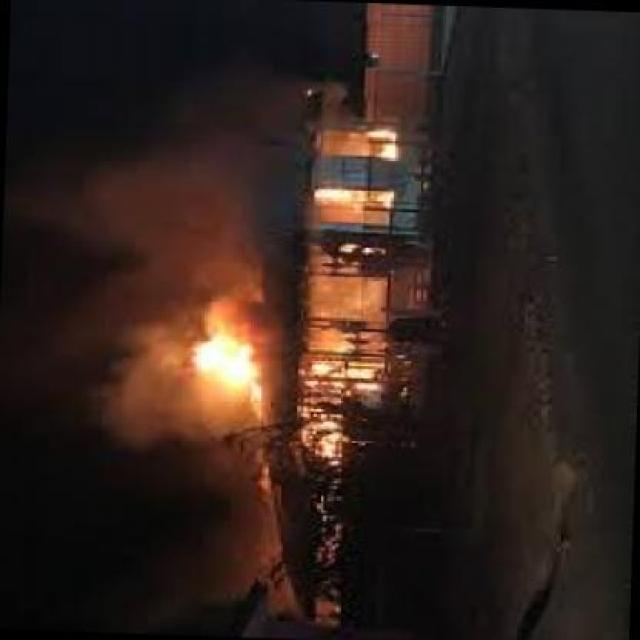Fire: (306, 364, 384, 471), (184, 312, 264, 408), (315, 183, 396, 230), (323, 124, 406, 164)
Smoke: (19, 57, 314, 319), (89, 417, 268, 629), (9, 304, 182, 474)
